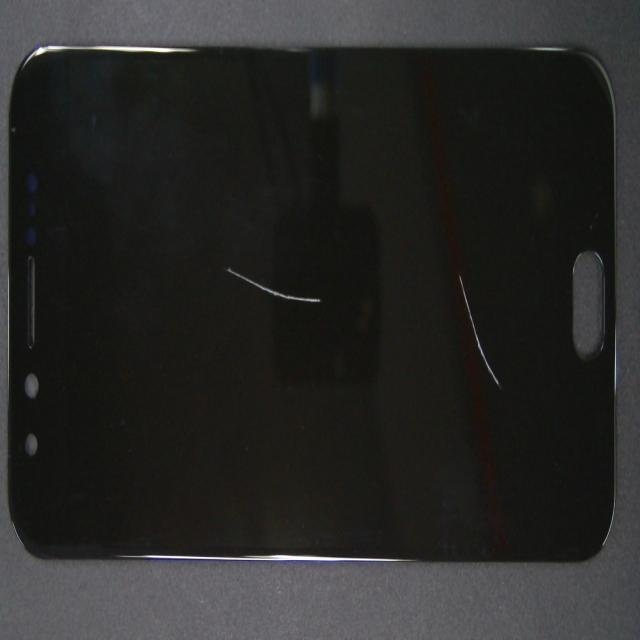scratch: (282, 262, 640, 520), (221, 174, 446, 427)
